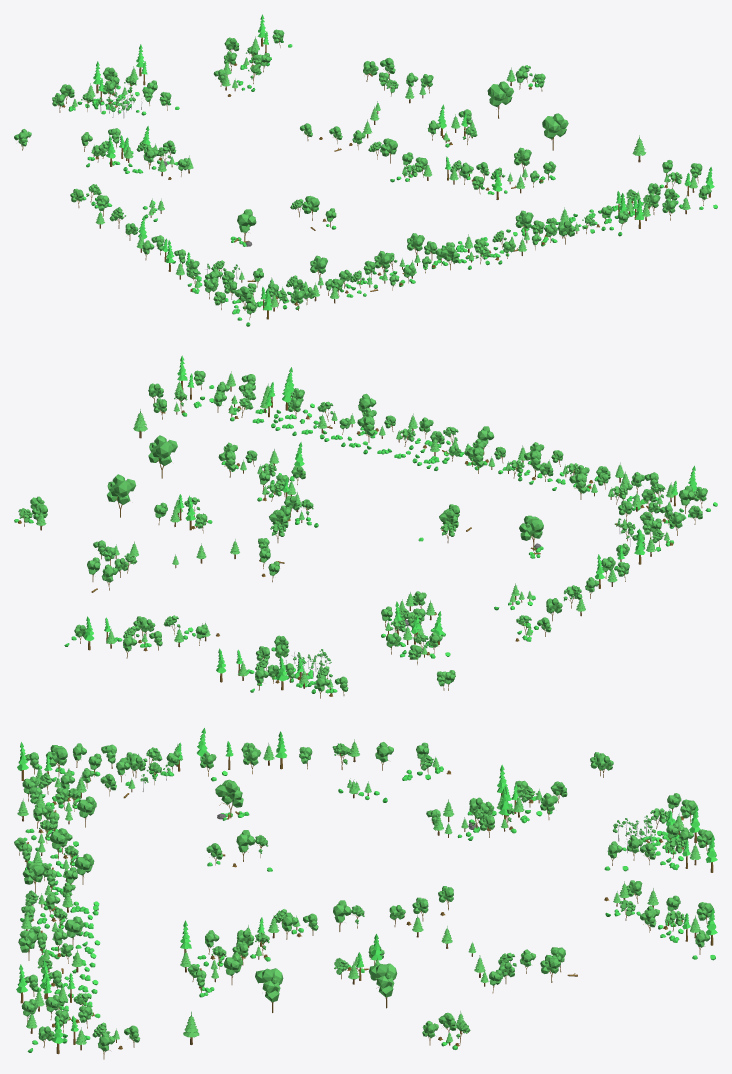
The model's file is arboles y fauna.fbx.
3 renders of one model, top to bottom at view 1: azimuth 30°, elevation 25°; view 2: azimuth 150°, elevation 25°; view 3: azimuth 270°, elevation 25°, orthographic. The views are drawn at different scales.
Parts seen in each view (by area): view 1: tree.054, tree.127; view 2: tree.054, tree.127; view 3: tree.127, tree.054, tree.055.
Boxes of the visible parts, x1,y1,x2,y2 form: tree.054: (542, 113, 568, 150); tree.127: (487, 81, 513, 118); tree.054: (148, 435, 177, 478); tree.127: (107, 474, 136, 517); tree.127: (369, 963, 397, 1008); tree.054: (255, 968, 283, 1012); tree.055: (215, 779, 243, 818).
Size of the model in its own units: 26568 by 1926 by 26216.
